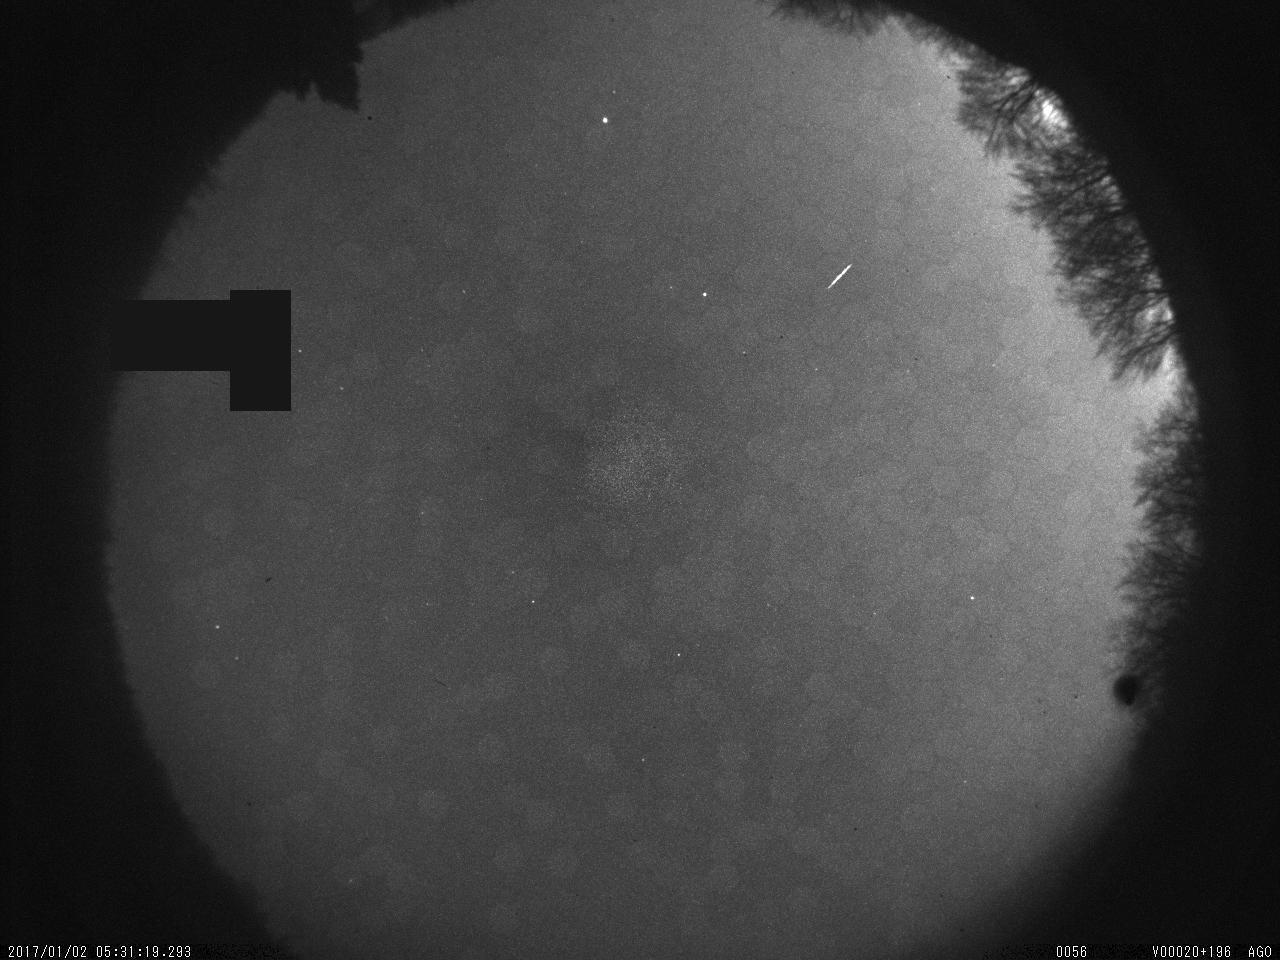Meteor: (822, 248, 858, 303)
